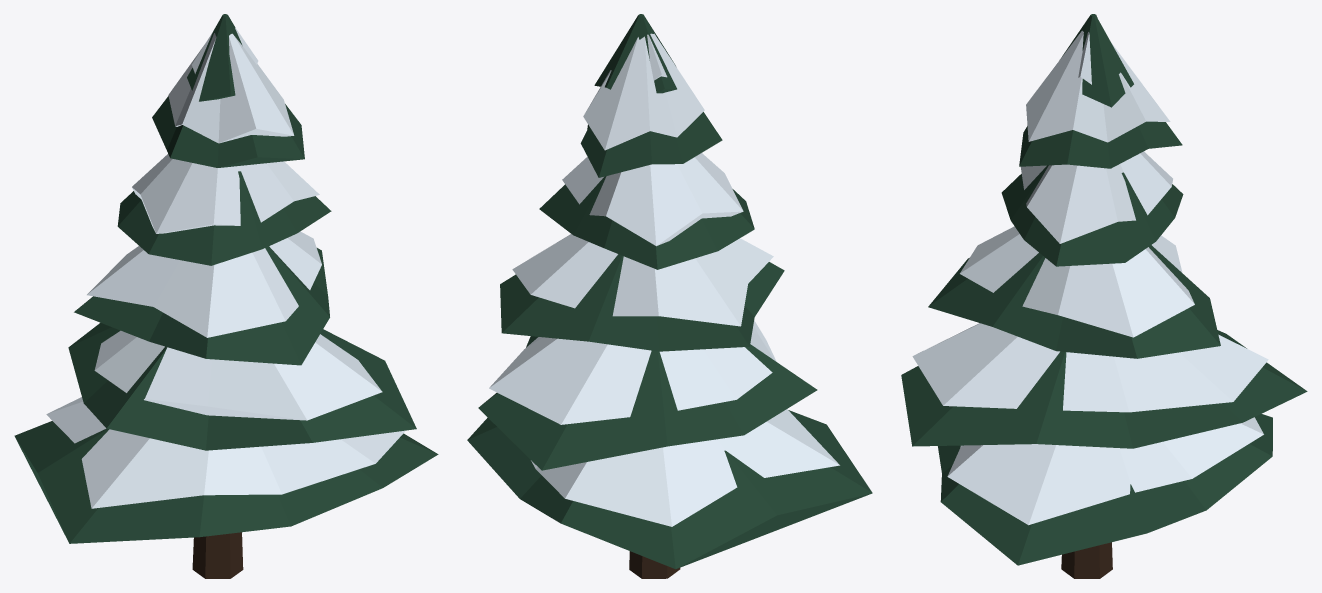
Rendered from Station_Pine_2_0_0.fbx.
The picture shows the model from 3 angles, left to right: view 1: azimuth 30°, elevation 25°; view 2: azimuth 150°, elevation 25°; view 3: azimuth 270°, elevation 25°; orthographic projection.
Parts seen in each view (by area): view 1: Station_Pine_2_0_0; view 2: Station_Pine_2_0_0; view 3: Station_Pine_2_0_0.
Part boxes in pixels (<box>): Station_Pine_2_0_0: <box>14,14,438,578</box>; Station_Pine_2_0_0: <box>467,14,872,578</box>; Station_Pine_2_0_0: <box>901,14,1307,578</box>.
Size of the model in its own units: 437 by 622 by 410.
